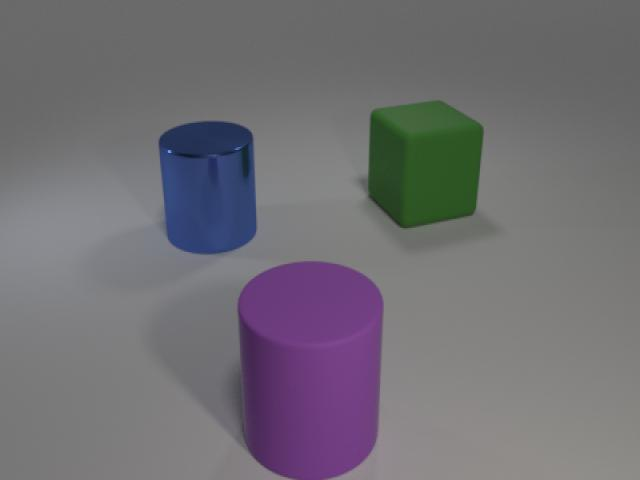cylinder: (230, 250, 386, 480), (151, 114, 264, 260)
